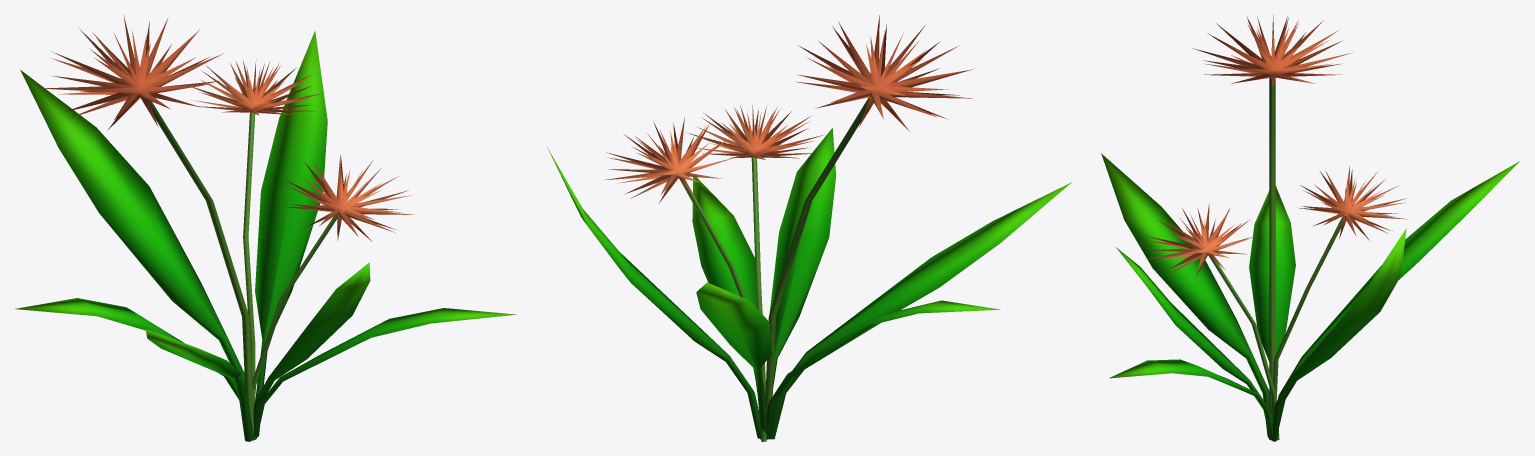
3 views of the same model, side by side, from view 1: azimuth 30°, elevation 25°; view 2: azimuth 150°, elevation 25°; view 3: azimuth 270°, elevation 25° (orthographic). The views are drawn at different scales.
Parts seen in each view (by area): view 1: fp01; view 2: fp01; view 3: fp01.
Boxes of the visible parts, left/top/right/bottom form: fp01: left=15, top=15, right=515, bottom=441; fp01: left=547, top=15, right=1071, bottom=441; fp01: left=1101, top=14, right=1519, bottom=441.
Bounding box in the file's own units: 71.94 × 72.97 × 75.41.
